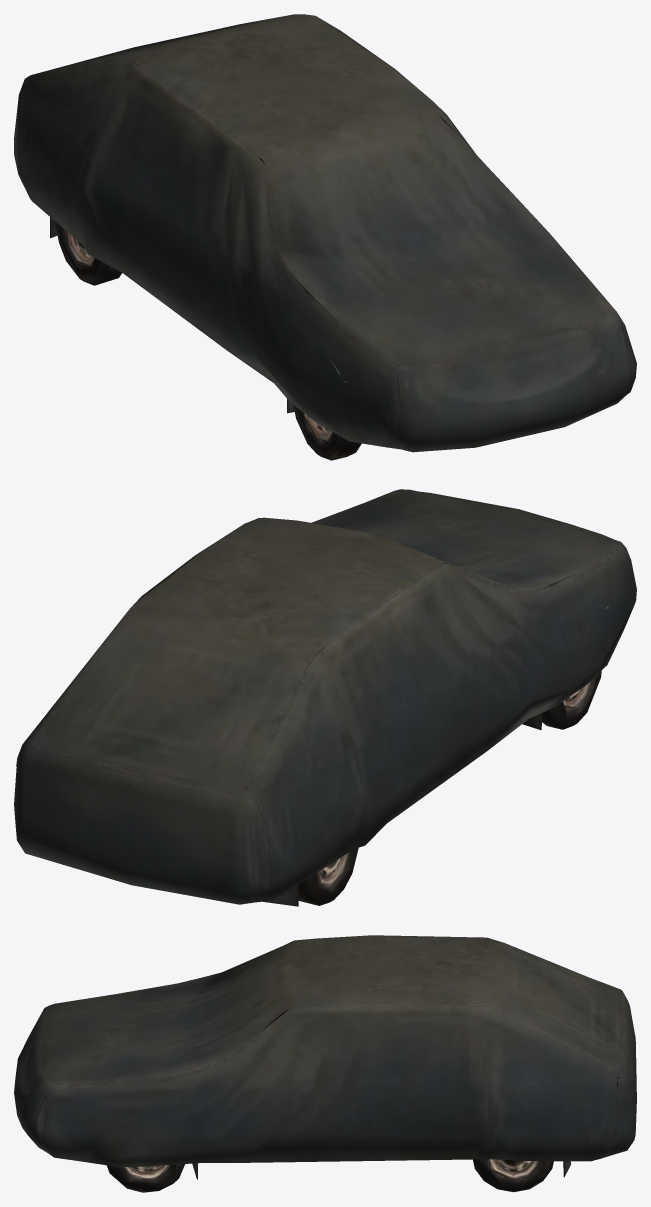
File: covered_car.glb
The picture shows the model from 3 angles, top to bottom: view 1: azimuth 30°, elevation 25°; view 2: azimuth 150°, elevation 25°; view 3: azimuth 270°, elevation 25°; orthographic projection. The views are drawn at different scales.
Visible parts, largest first — view 1: covered_car_wheel_01; view 2: covered_car_wheel_01; view 3: covered_car_wheel_01.
Boxes of the visible parts, box(x1,y1,x2,y2) form: covered_car_wheel_01: box(14, 14, 636, 460); covered_car_wheel_01: box(14, 489, 636, 906); covered_car_wheel_01: box(14, 935, 636, 1192).
Bounding box in the file's own units: 1.79 × 1.41 × 4.38.
1 material, 1 textured.
